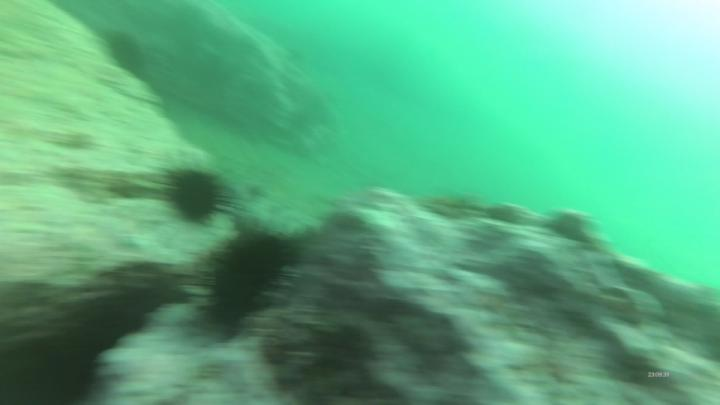echinus: (196, 228, 302, 336), (167, 166, 223, 228), (111, 27, 145, 82)
